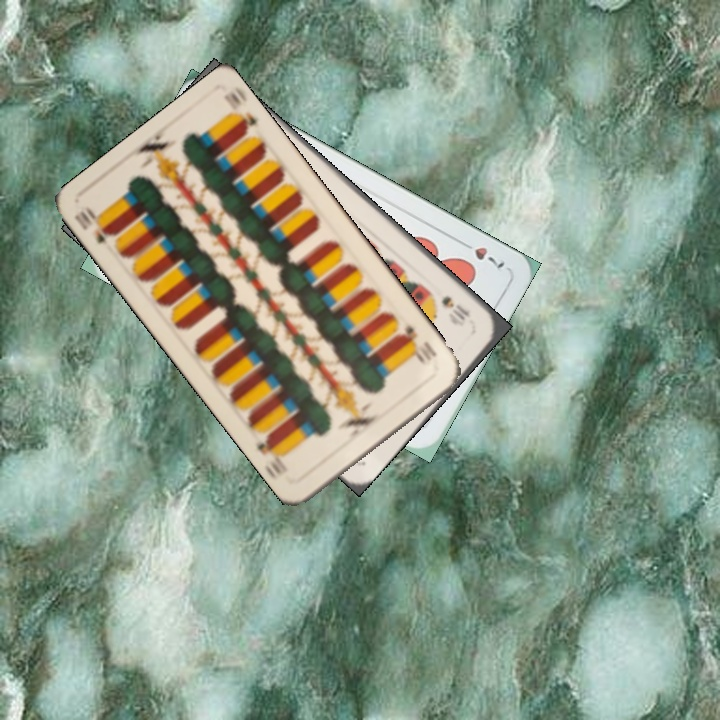E10: (70, 203, 118, 247), (395, 320, 440, 364)
H7: (455, 236, 508, 273)
S10: (437, 291, 473, 323)
